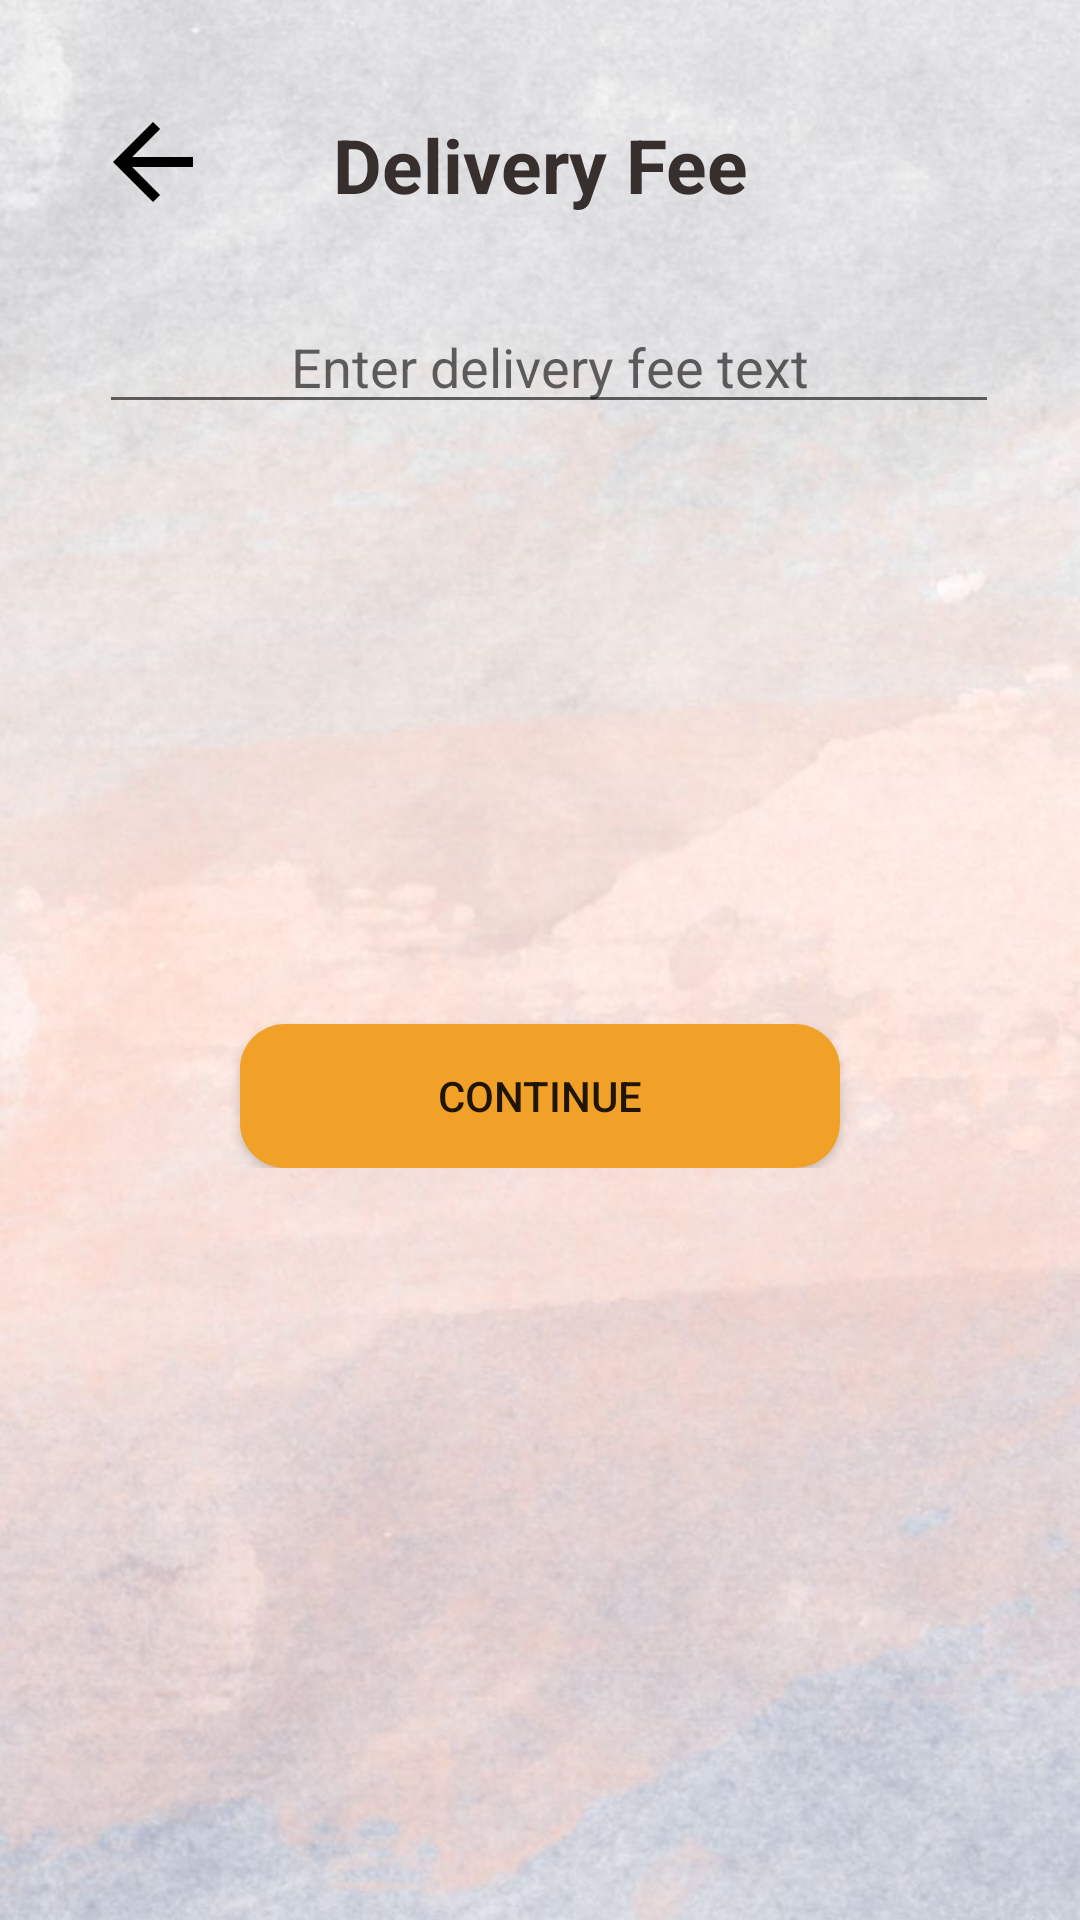

Where icons sit on this 1080 × 1920 app screen, as (x1, y1, x2, y2):
back: (113, 122, 193, 202)
